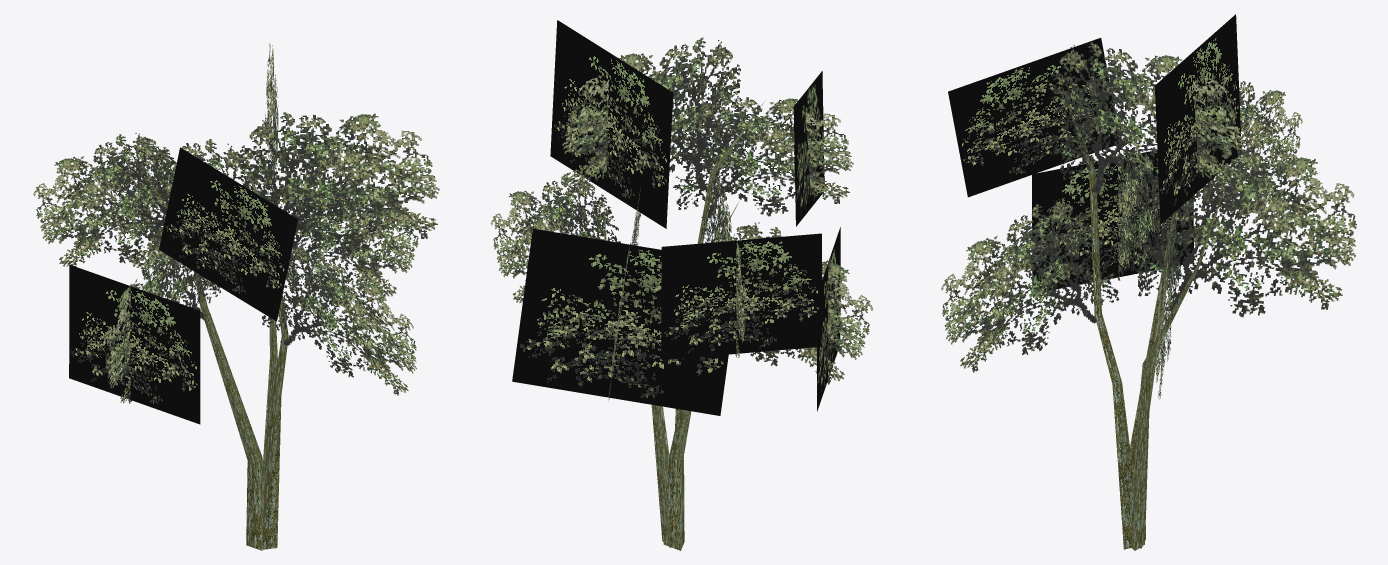
File: stage-lake-p2-291.glb
3 renders of one model, left to right at view 1: azimuth 30°, elevation 25°; view 2: azimuth 150°, elevation 25°; view 3: azimuth 270°, elevation 25°, orthographic. The views are drawn at different scales.
Bounding box in the file's own units: 19.12 × 23.61 × 18.82.
Materials: 3 (3 with a texture image).
